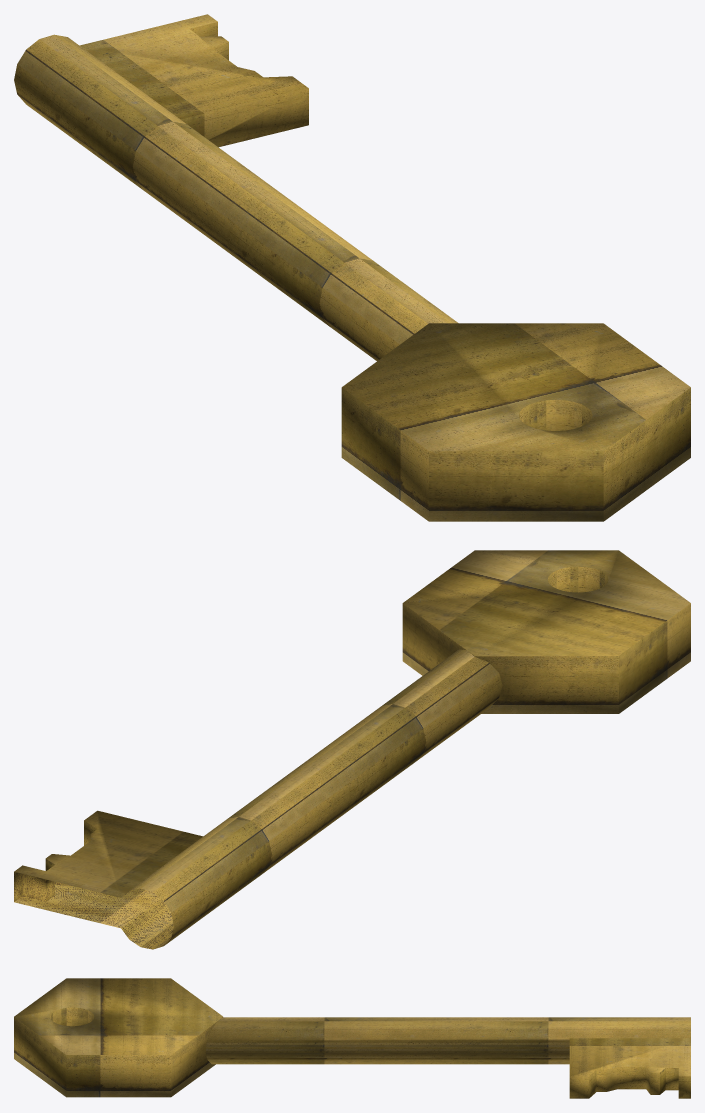
Rendered from Key.dae.
3 views of the same model, one above another, from view 1: azimuth 30°, elevation 25°; view 2: azimuth 150°, elevation 25°; view 3: azimuth 270°, elevation 25° (orthographic). The views are drawn at different scales.
Parts seen in each view (by area): view 1: SketchUp (×3); view 2: SketchUp (×3); view 3: SketchUp (×3).
Part boxes in pixels (x1,y1,x2,y2): SketchUp (×3): [14, 14, 690, 521]; SketchUp (×3): [14, 550, 690, 949]; SketchUp (×3): [14, 978, 690, 1098].
Size of the model in its own units: 44.44 by 145 by 10.12.
